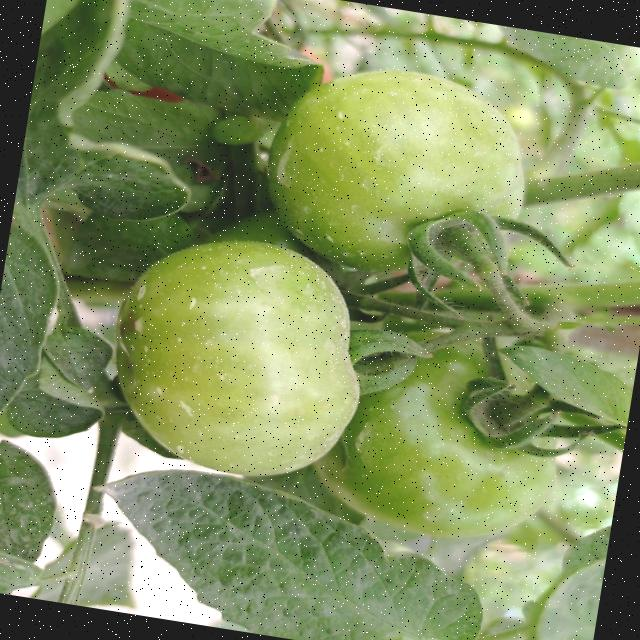Unripe: (98, 220, 386, 492), (252, 50, 543, 291), (310, 322, 580, 556)
